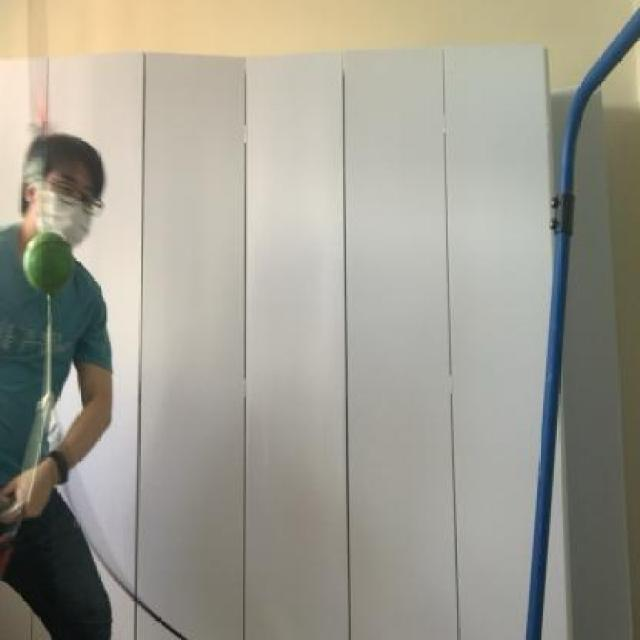baseball: (19, 218, 72, 294)
